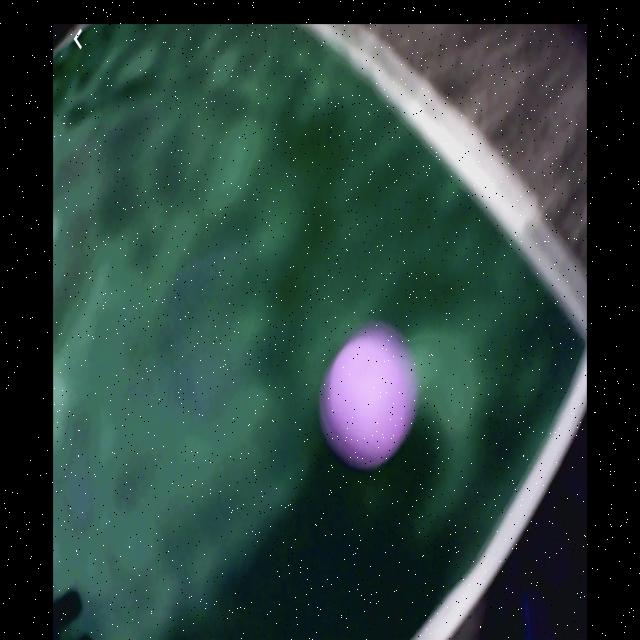ball: (326, 338, 409, 467)
